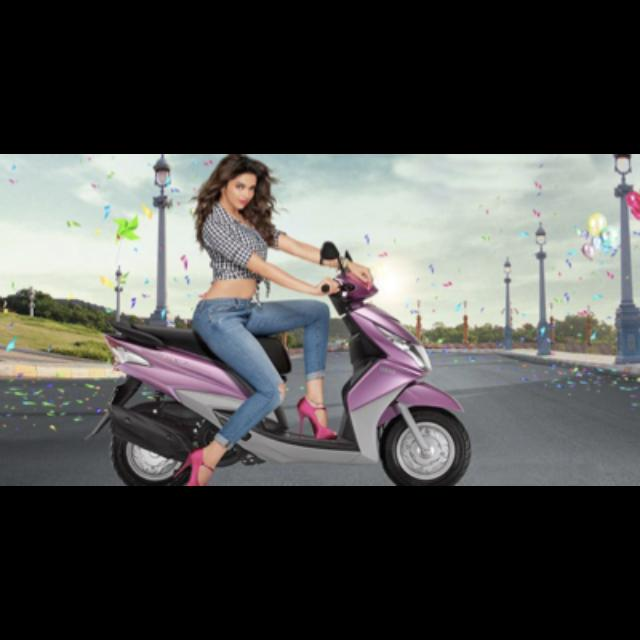Without Helmet: (208, 154, 270, 216)
